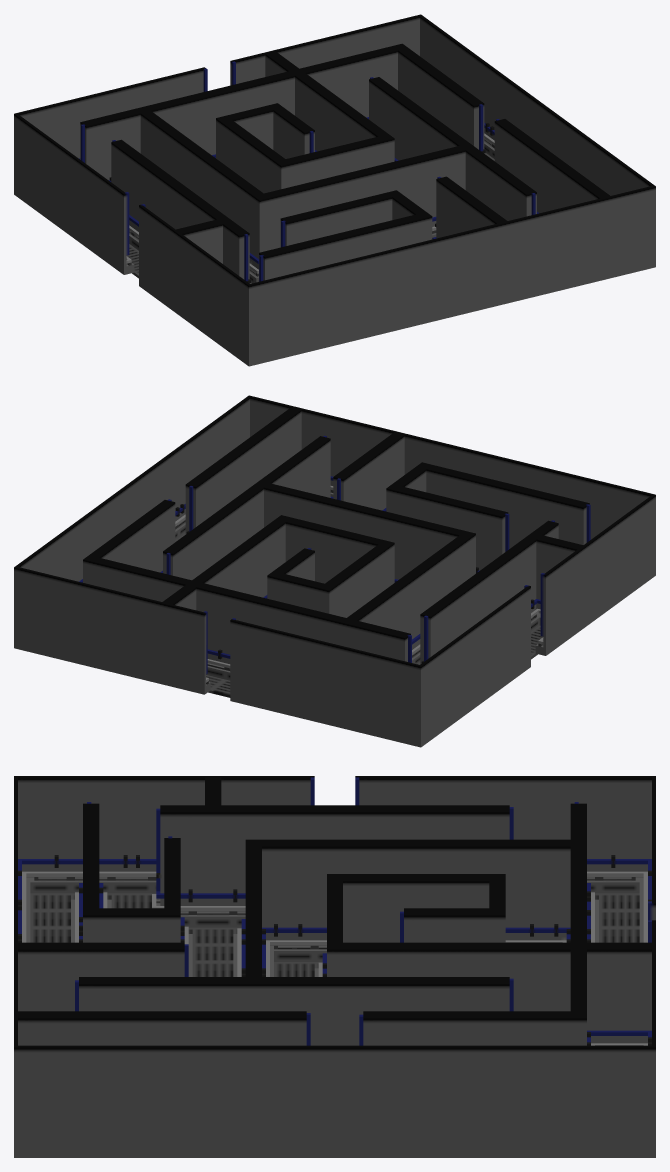
Rendered from Level02pt4.fbx.
3 renders of one model, top to bottom at view 1: azimuth 30°, elevation 25°; view 2: azimuth 150°, elevation 25°; view 3: azimuth 270°, elevation 25°, orthographic. The views are drawn at different scales.
Parts seen in each view (by area): view 1: Union_196; view 2: Union_196; view 3: Union_196.
Boxes of the visible parts, x1,y1,x2,y2 form: Union_196: (14, 14, 655, 366); Union_196: (14, 395, 655, 747); Union_196: (14, 776, 655, 1157).
Bounding box in the file's own units: 158 × 31 × 158.
